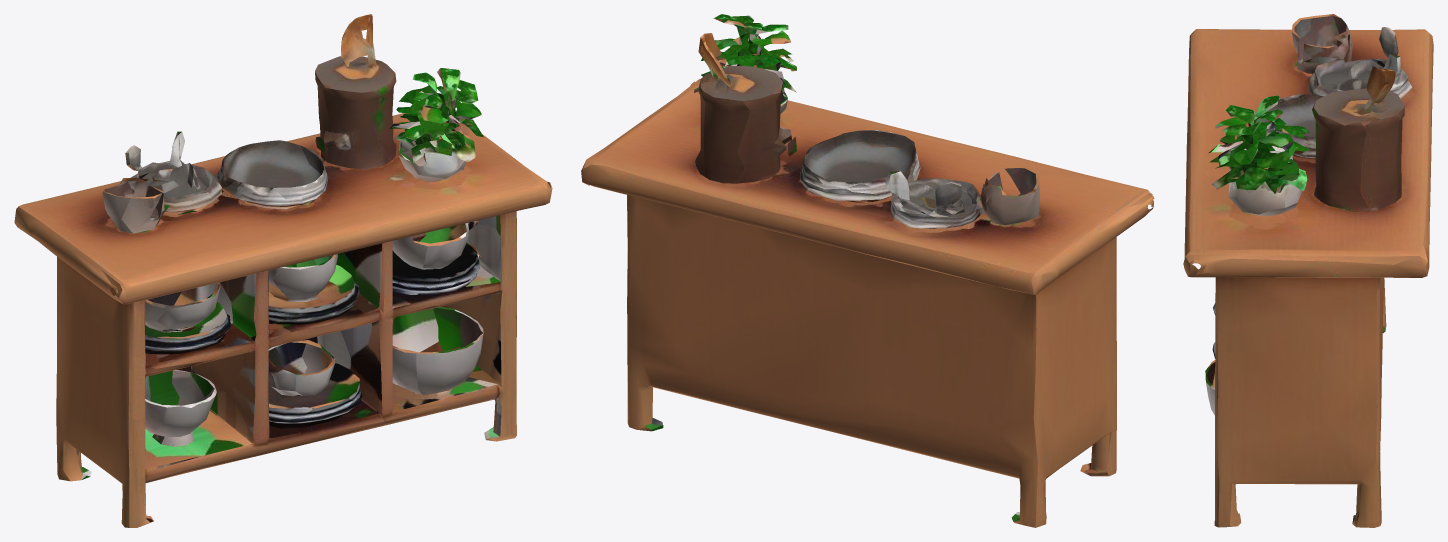
File: kitchen_dresser.glb
3 renders of one model, left to right at view 1: azimuth 30°, elevation 25°; view 2: azimuth 150°, elevation 25°; view 3: azimuth 270°, elevation 25°, orthographic. The views are drawn at different scales.
Parts seen in each view (by area): view 1: kitchen_dresser; view 2: kitchen_dresser; view 3: kitchen_dresser.
Part boxes in pixels (<box>): kitchen_dresser: <box>14,14,552,527</box>; kitchen_dresser: <box>581,14,1154,527</box>; kitchen_dresser: <box>1183,14,1433,527</box>.
Bounding box in the file's own units: 1 × 0.8498 × 0.4574.
Materials: 1 (1 with a texture image).
